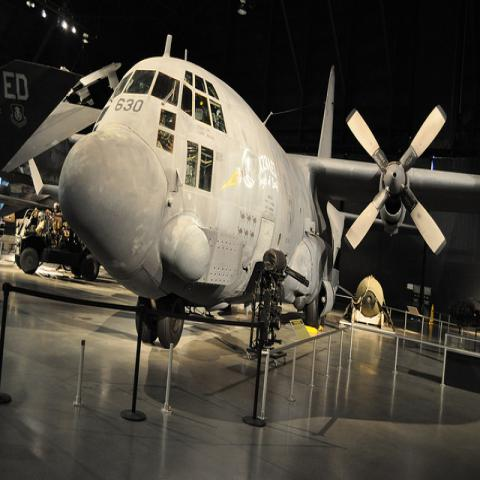car: (15, 210, 102, 282)
